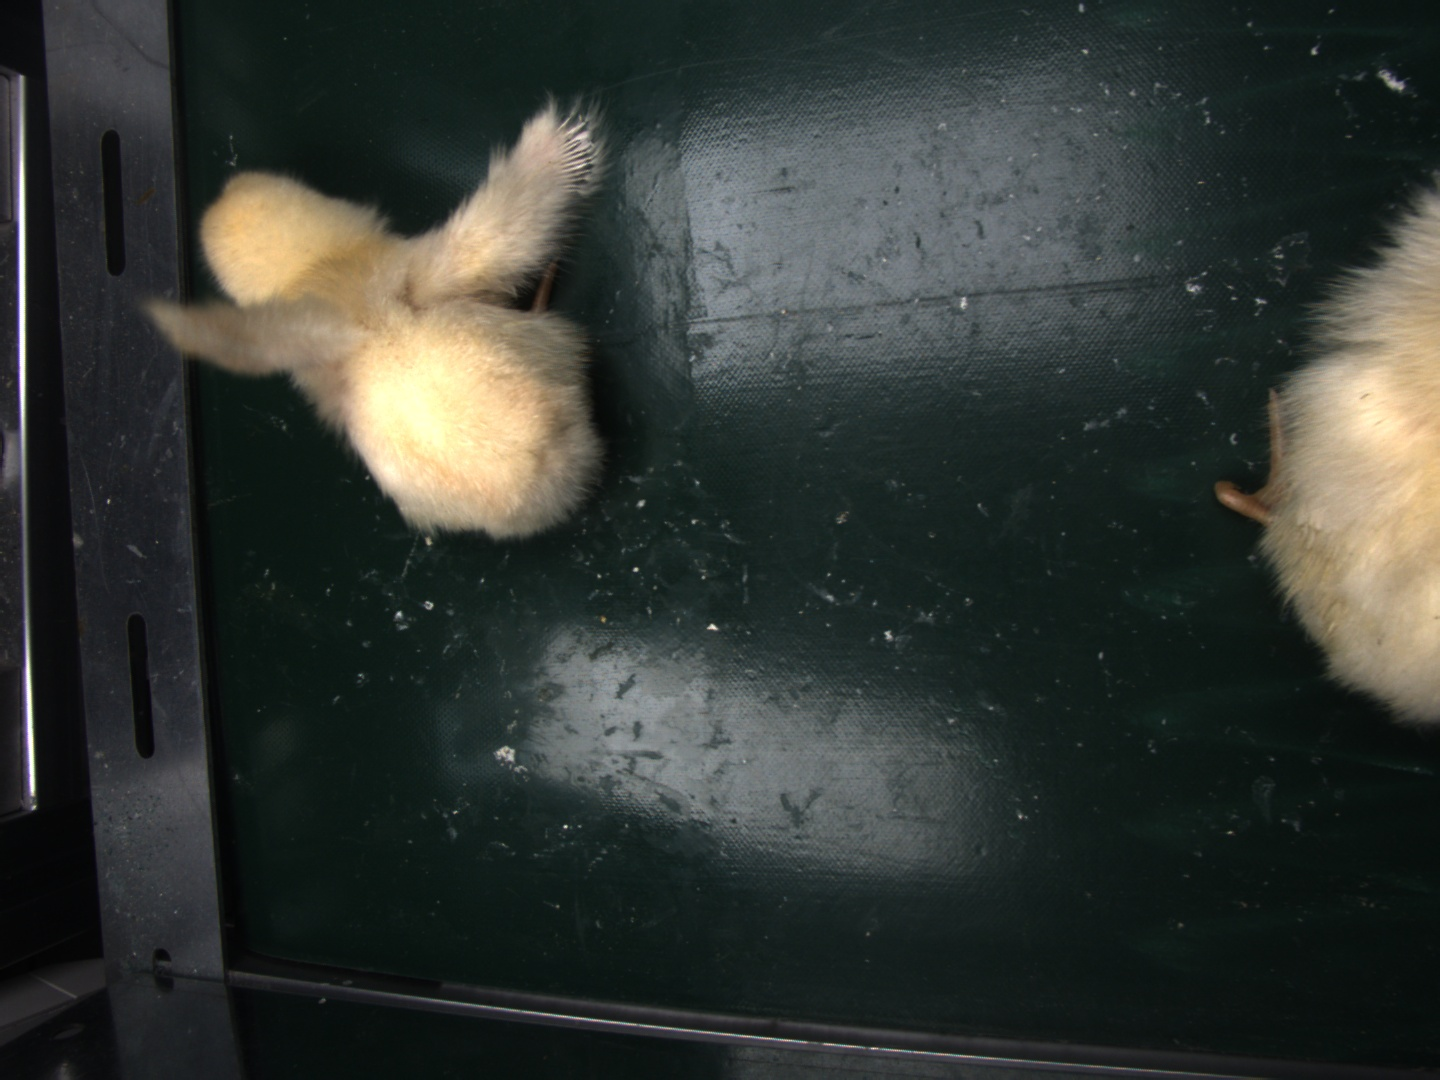male: (556, 112, 601, 189)
